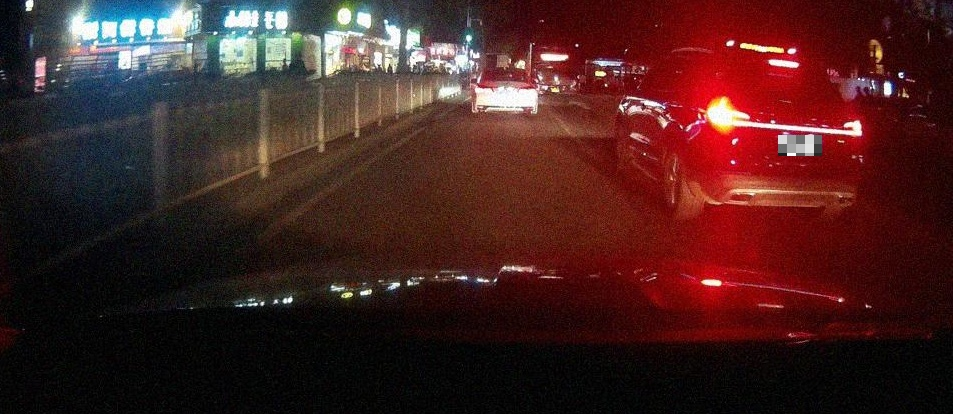L_light: (706, 101, 752, 133), (476, 83, 499, 90)
R_light: (839, 120, 864, 136), (515, 83, 537, 90)
T_light: (767, 58, 801, 69), (501, 69, 512, 73)
night-left: (686, 54, 865, 229)
night-no: (472, 69, 538, 115)
plate_1: (778, 135, 822, 156)
